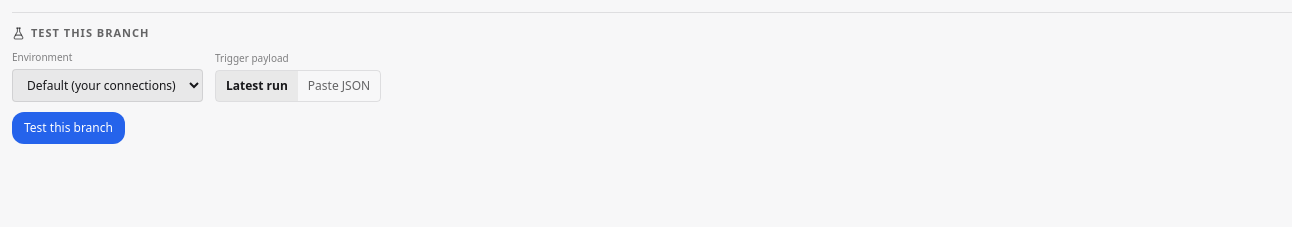
ReviewTestPanel — what the test would refuse, before it runs › names an environment whose account isn't active, sends it to Integrations, and holds the run
expect the button "Test this branch" is shown: met, box [12,112,125,144]
Select "production" in the dropdown at [108, 85], box [12,68,203,102]
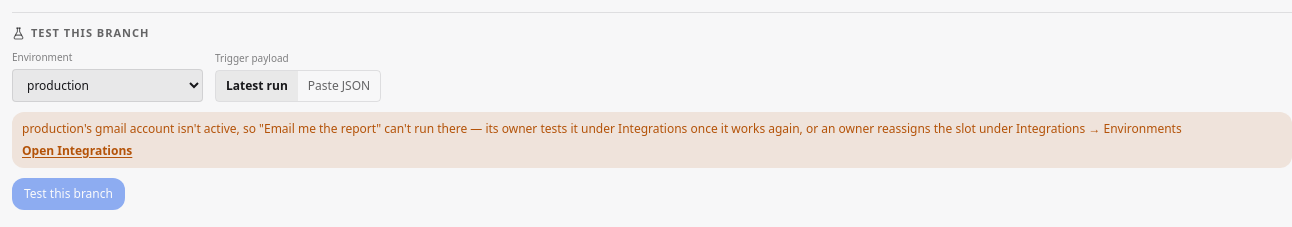
expect the message with test id "test-readiness" shows "production's gmail account isn't active": met, box [22,120,1182,136]
expect the button "Test this branch" is disabled: met, box [12,178,125,210]
